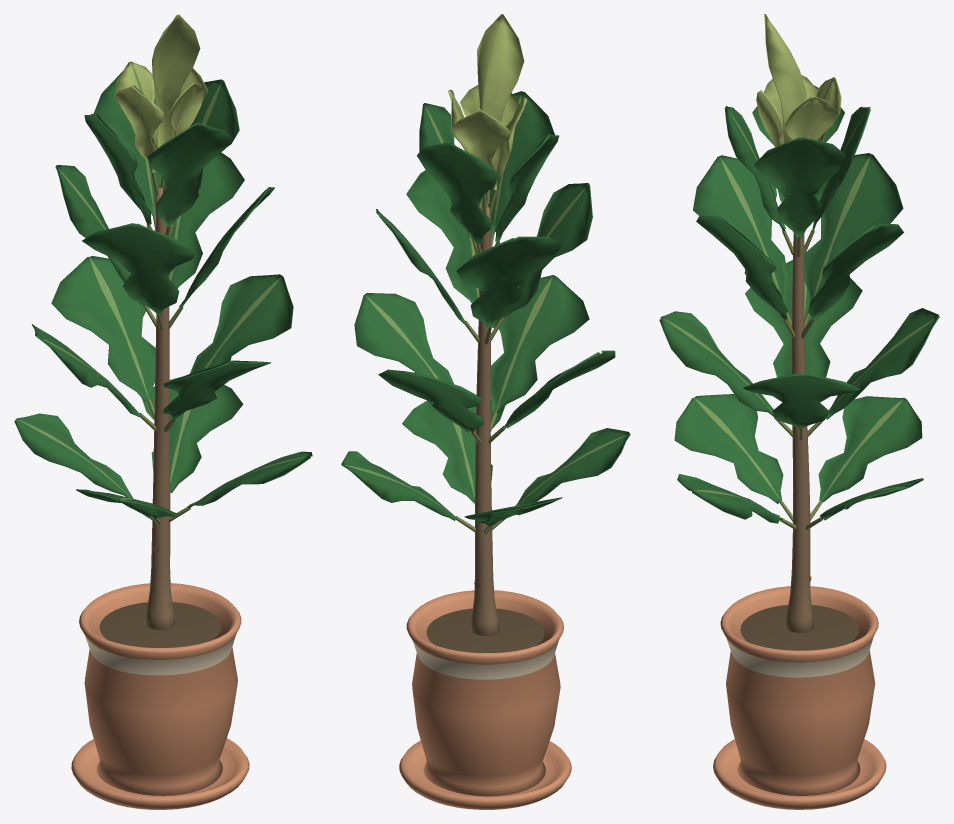
3 renders of one model, left to right at view 1: azimuth 30°, elevation 25°; view 2: azimuth 150°, elevation 25°; view 3: azimuth 270°, elevation 25°, orthographic. The views are drawn at different scales.
Visible parts, largest first — view 1: F014; view 2: F014; view 3: F014.
Part boxes in pixels (left/top/right/bottom): F014: left=14, top=14, right=312, bottom=809; F014: left=341, top=14, right=630, bottom=809; F014: left=659, top=14, right=939, bottom=809.
Bounding box in the file's own units: 0.508 × 1.52 × 0.508.
